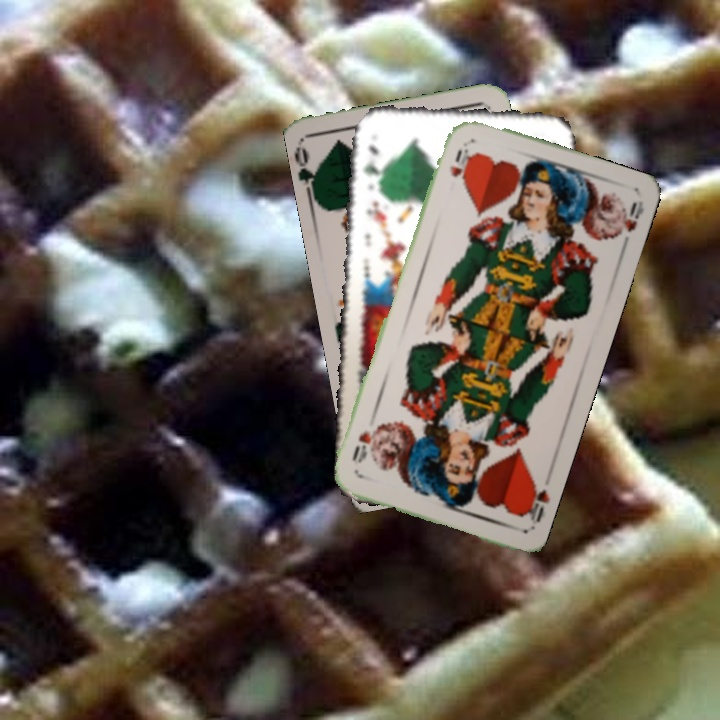GK: (359, 140, 382, 179)
GO: (293, 143, 324, 201)
HO: (517, 476, 552, 530), (445, 139, 471, 180)
